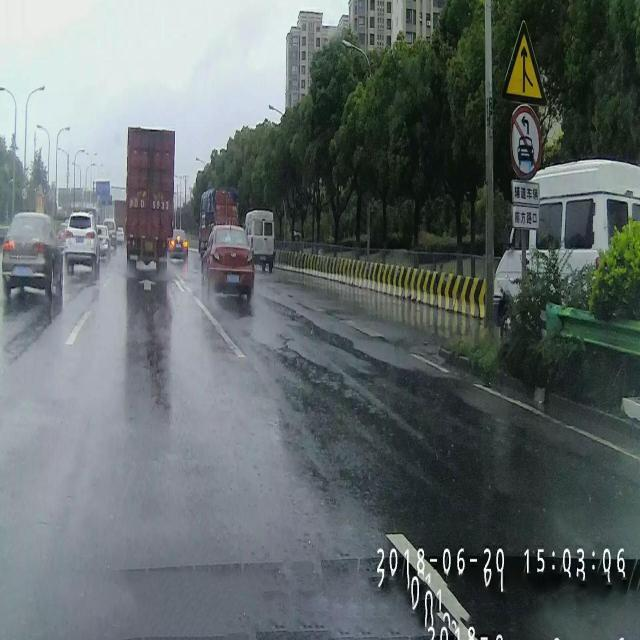car: (0, 211, 63, 295), (201, 222, 255, 302), (63, 210, 99, 278), (246, 208, 275, 271), (166, 230, 188, 260)
